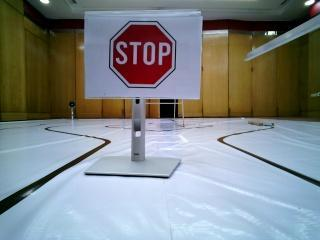stop: (94, 16, 188, 93)
